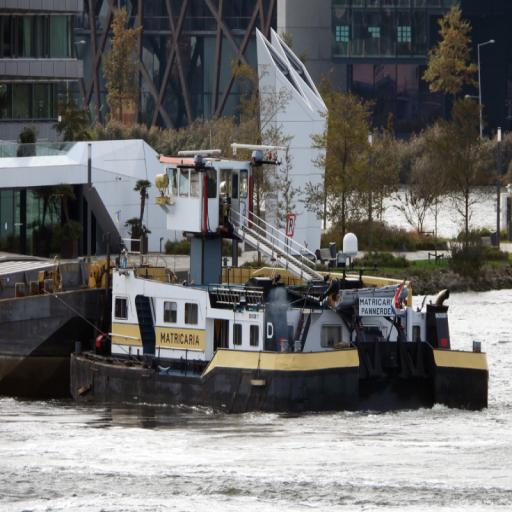tugboat: (64, 128, 494, 429)
